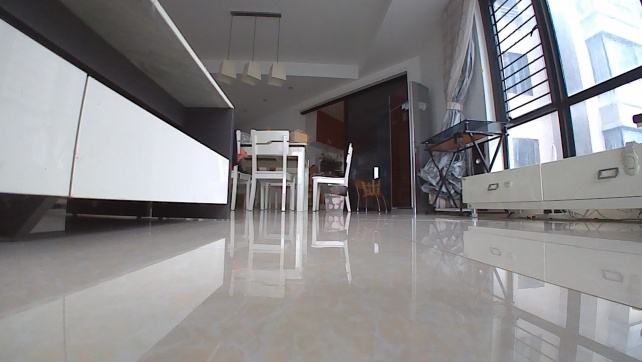TV_stand1: (458, 139, 641, 220)
dining_table: (229, 125, 356, 214)
tea_table1: (0, 0, 235, 244)
